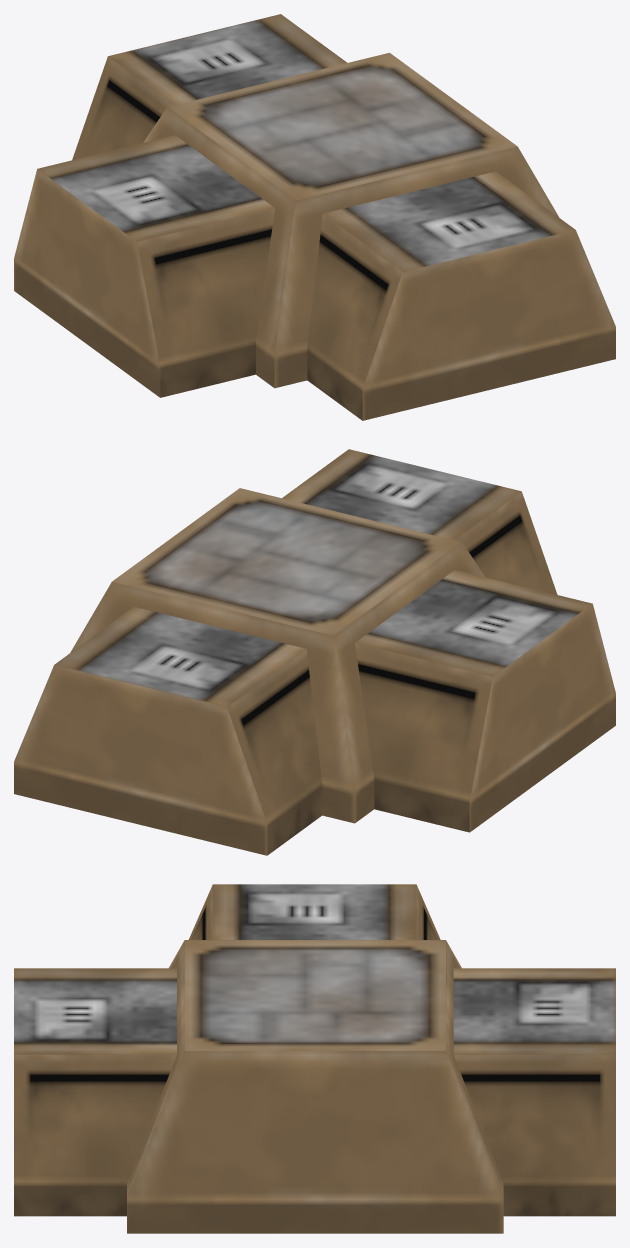
The model's file is hpg_threeway.glb.
3 views of the same model, one above another, from view 1: azimuth 30°, elevation 25°; view 2: azimuth 150°, elevation 25°; view 3: azimuth 270°, elevation 25° (orthographic). The views are drawn at different scales.
Visible parts, largest first — view 1: halfie; view 2: halfie; view 3: halfie.
Boxes of the visible parts, left/top/right/bottom form: halfie: left=14, top=14, right=615, bottom=420; halfie: left=14, top=449, right=615, bottom=855; halfie: left=14, top=884, right=615, bottom=1233.
Bounding box in the file's own units: 20.87 × 7.44 × 25.63.
2 materials, 2 textured.
